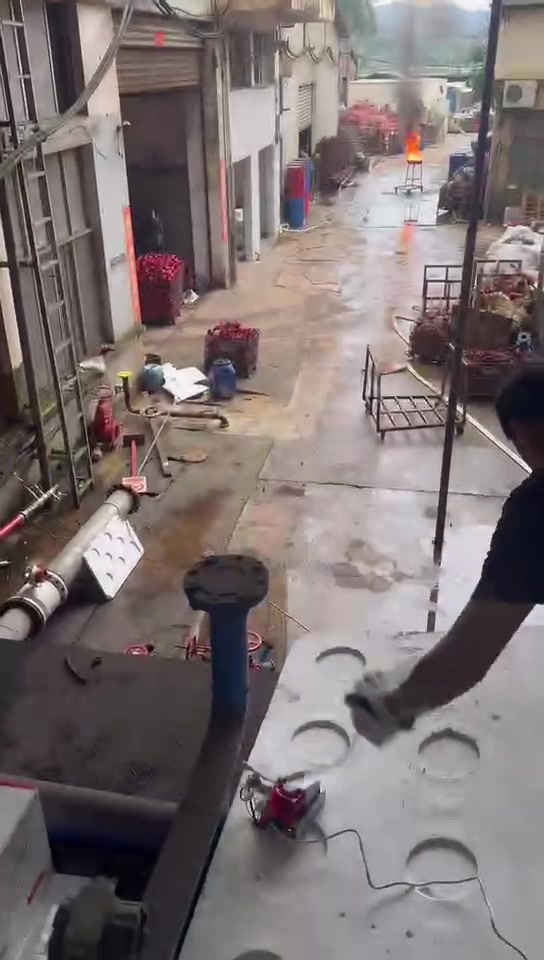fire: (402, 134, 422, 160)
